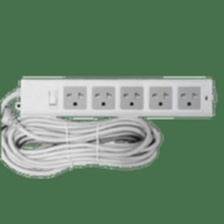three_eye_plug: (11, 73, 218, 120)
